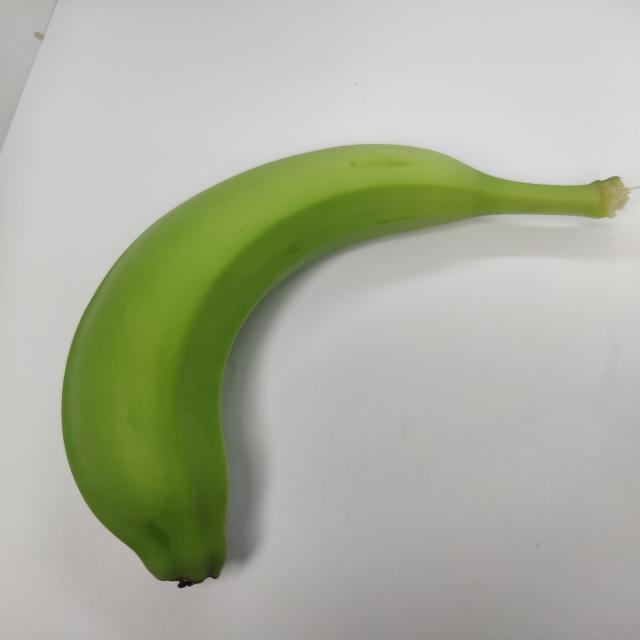raw: (17, 117, 640, 607)
